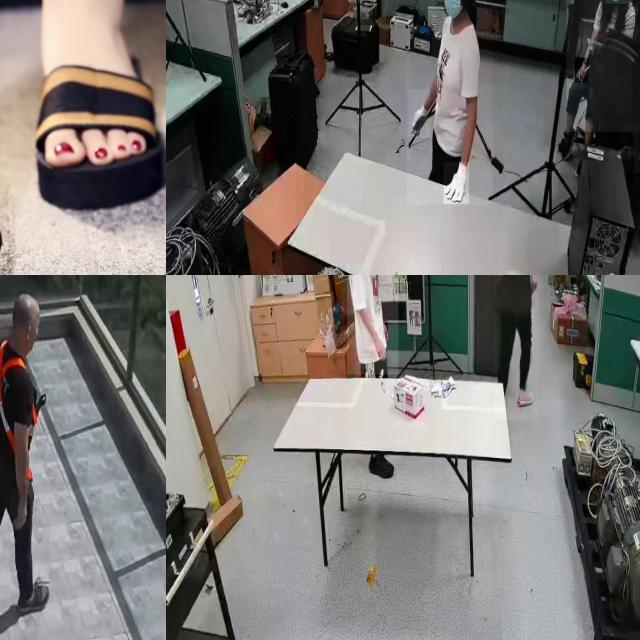Harness: (0, 340, 27, 454)
Sandals: (0, 0, 166, 275)
face_mask: (436, 0, 463, 27)
hand_glove: (408, 89, 431, 139), (444, 162, 469, 204)
hand_noglove: (575, 58, 589, 84), (373, 336, 387, 360), (383, 320, 389, 339)
person: (406, 0, 493, 205), (566, 0, 633, 132), (494, 275, 539, 420), (347, 275, 399, 375)
shoes: (368, 452, 398, 485)
